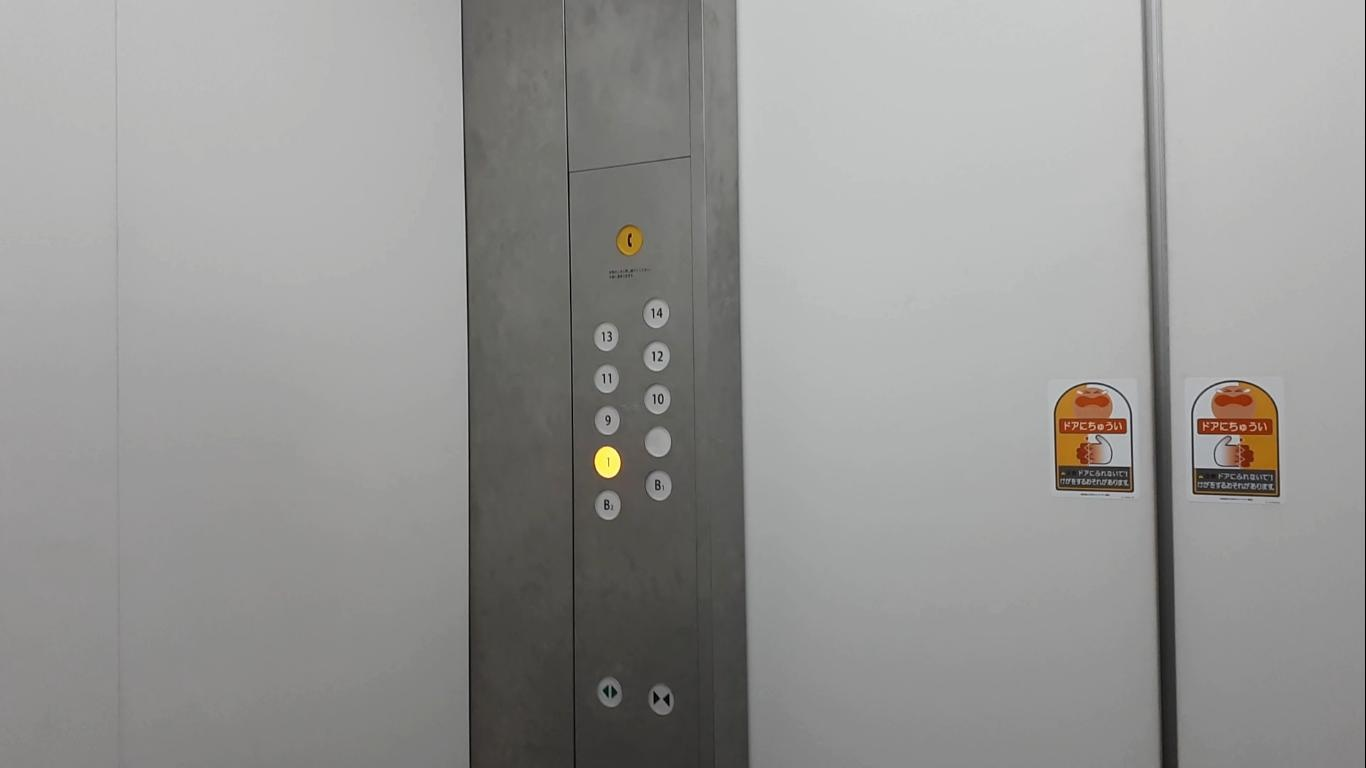1: (589, 442, 625, 481)
10: (639, 379, 675, 418)
11: (589, 359, 625, 398)
12: (639, 336, 675, 375)
13: (588, 316, 624, 355)
14: (638, 292, 674, 331)
9: (589, 399, 625, 438)
B1: (641, 465, 675, 504)
B2: (590, 485, 624, 524)
call: (612, 220, 646, 259)
close: (644, 679, 678, 718)
empty: (640, 422, 676, 461)
open: (592, 671, 626, 710)
